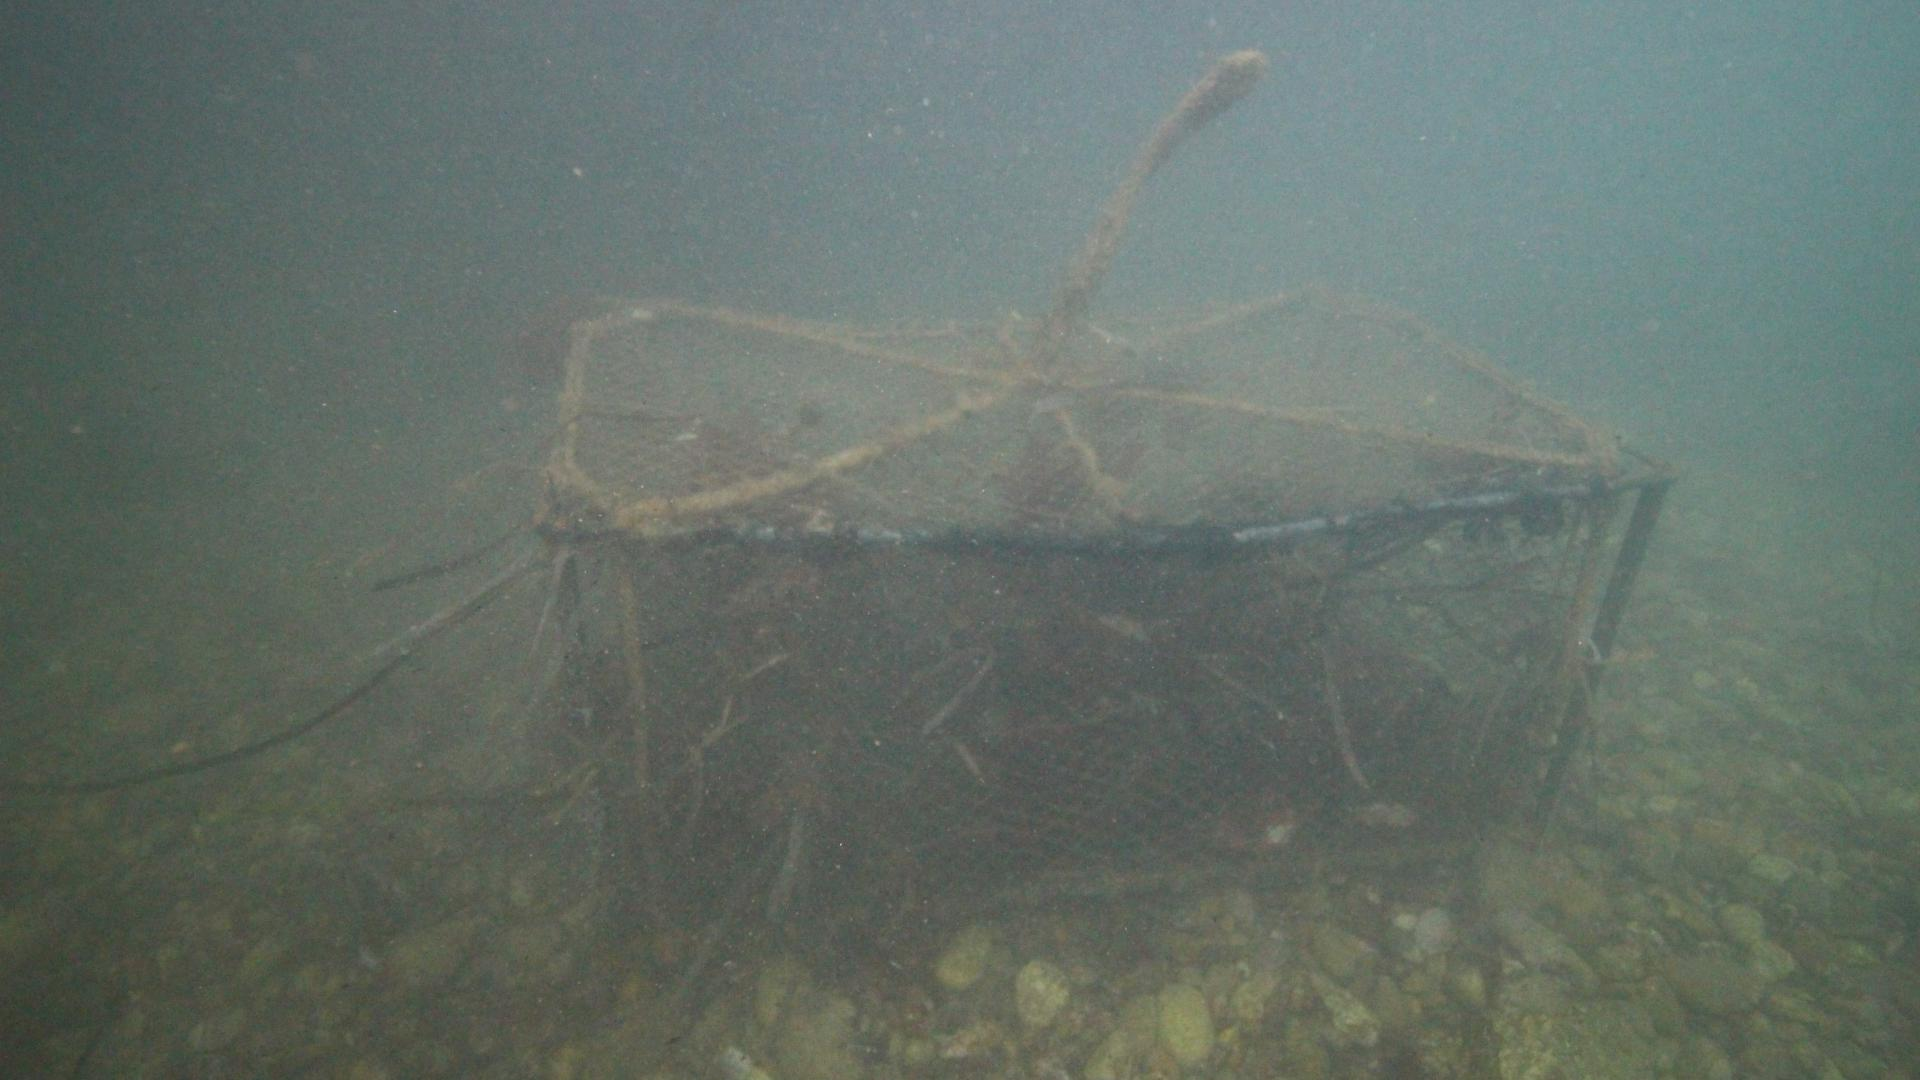bundle of ropes: (1052, 50, 1265, 375)
rectangular fish trap: (545, 286, 1685, 951)
